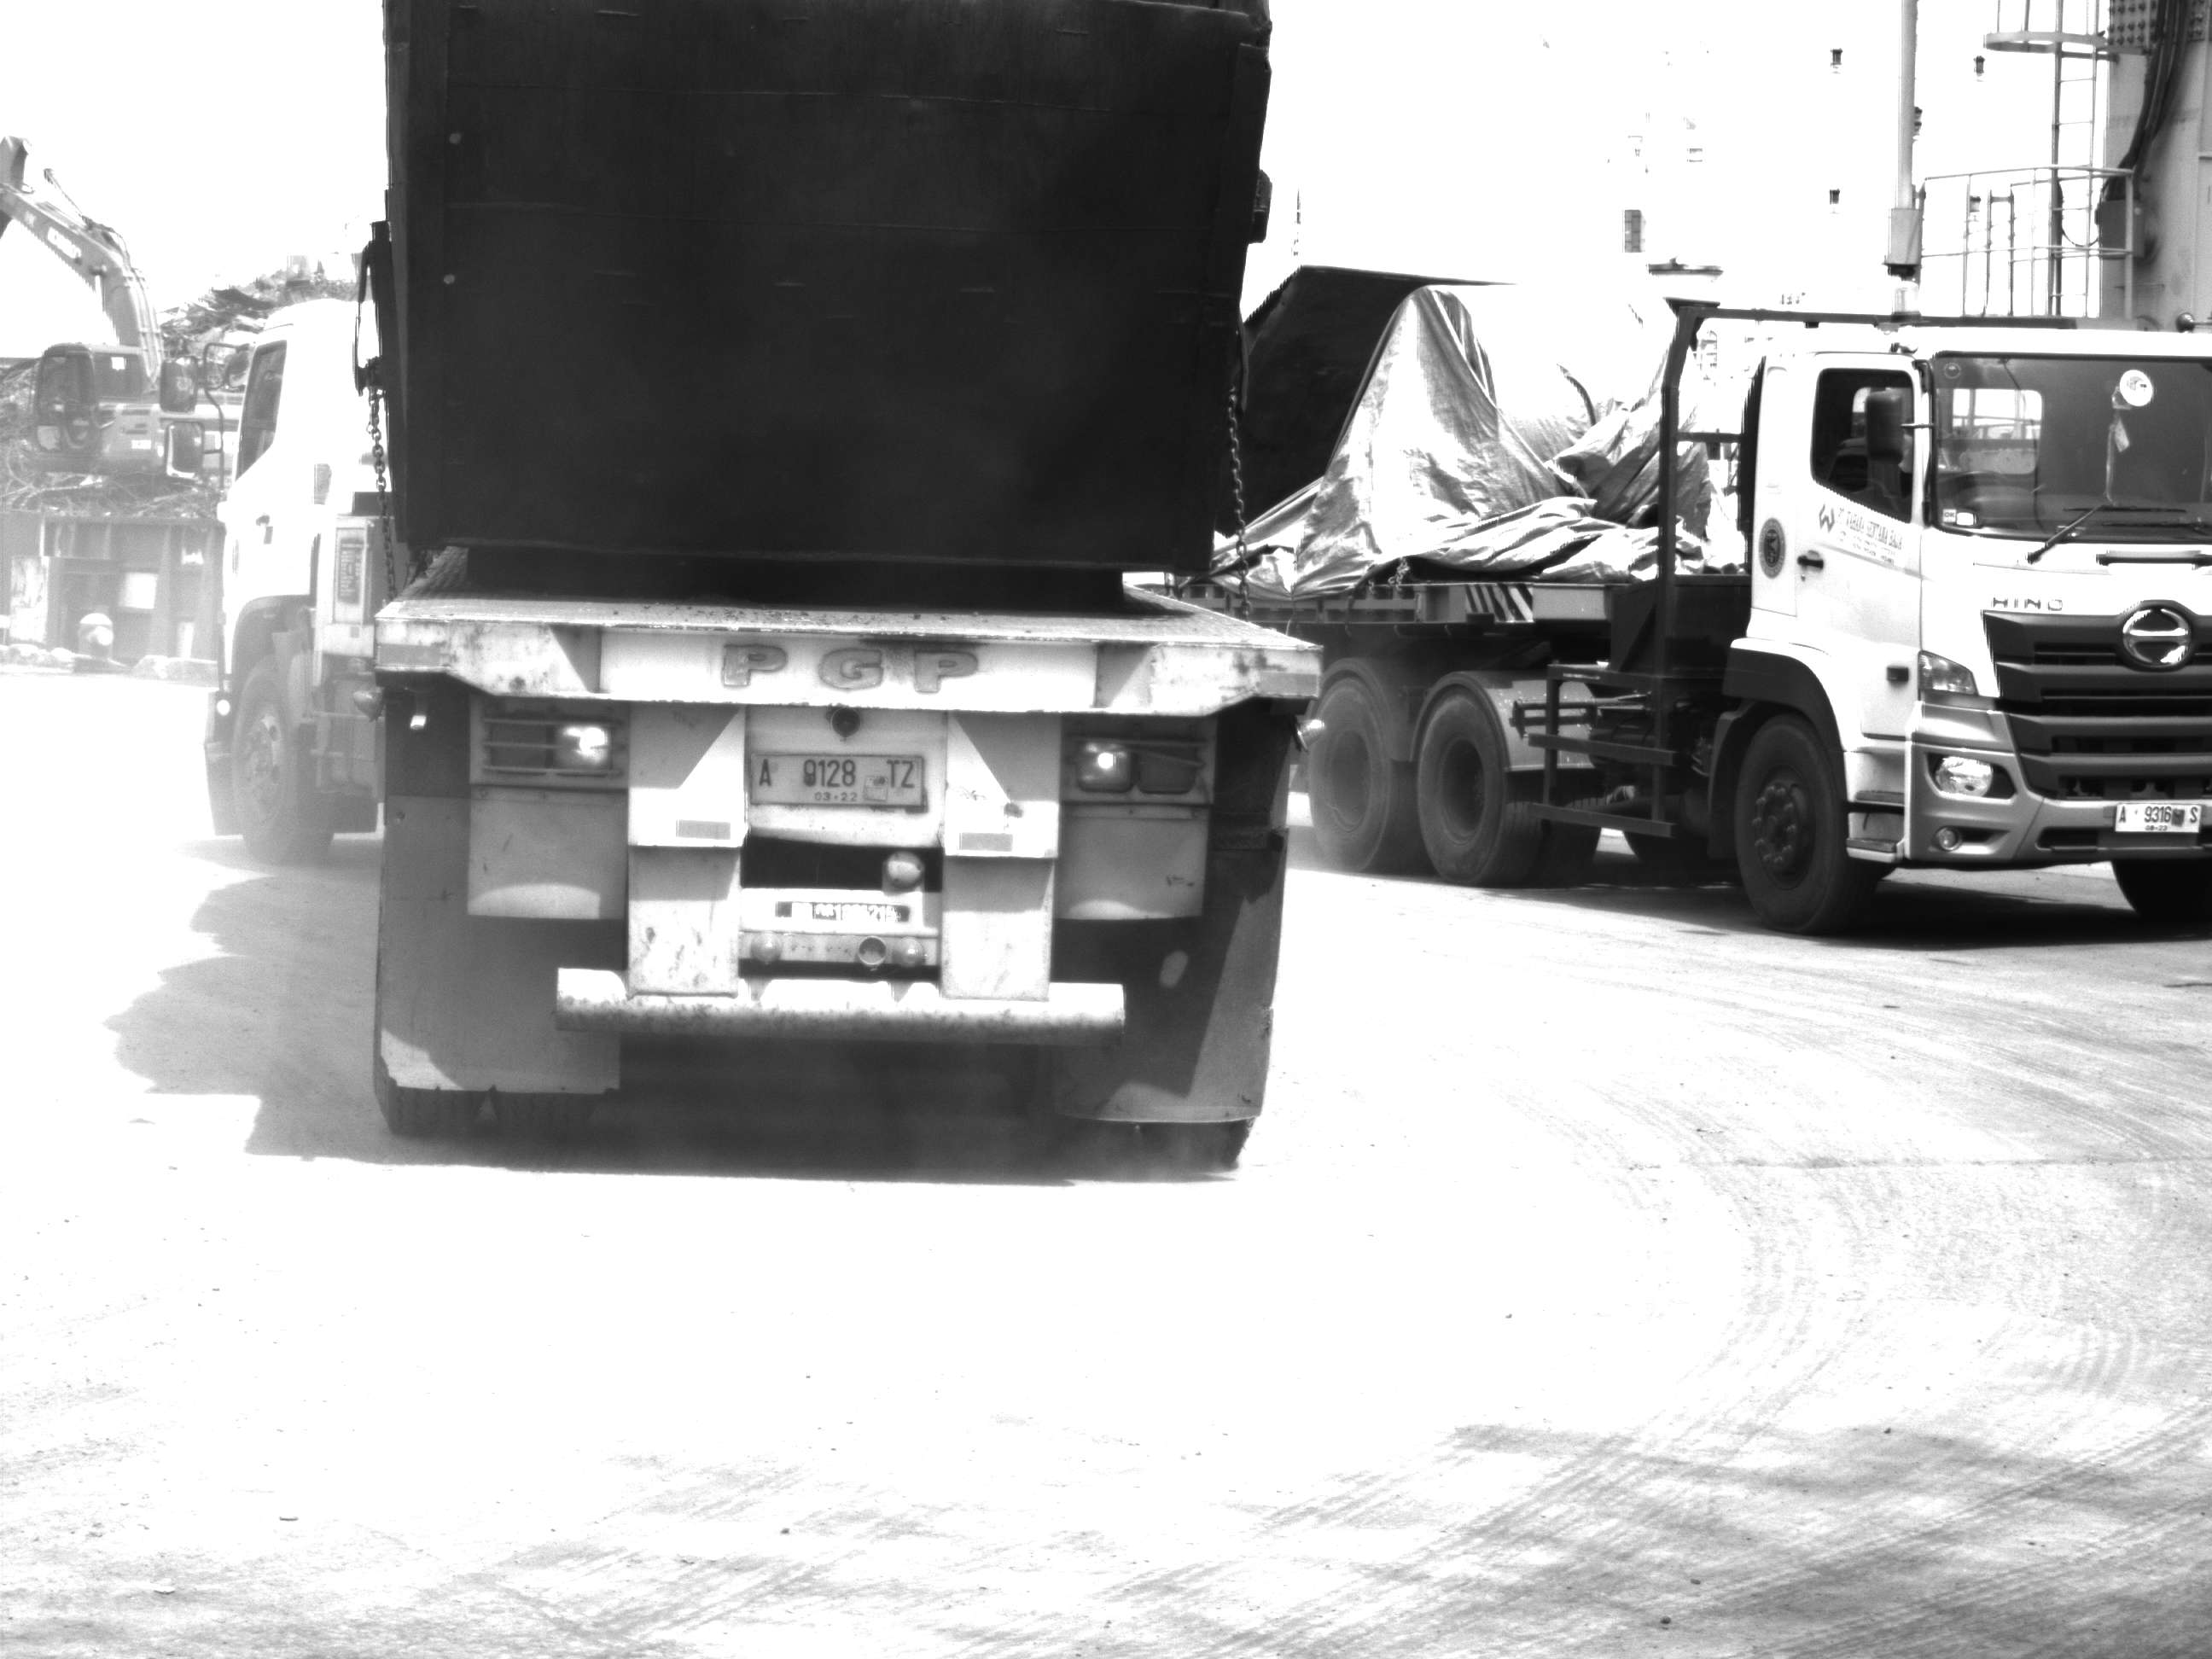truck: (1325, 253, 2212, 951)
truck_backside: (171, 0, 1303, 1187)
